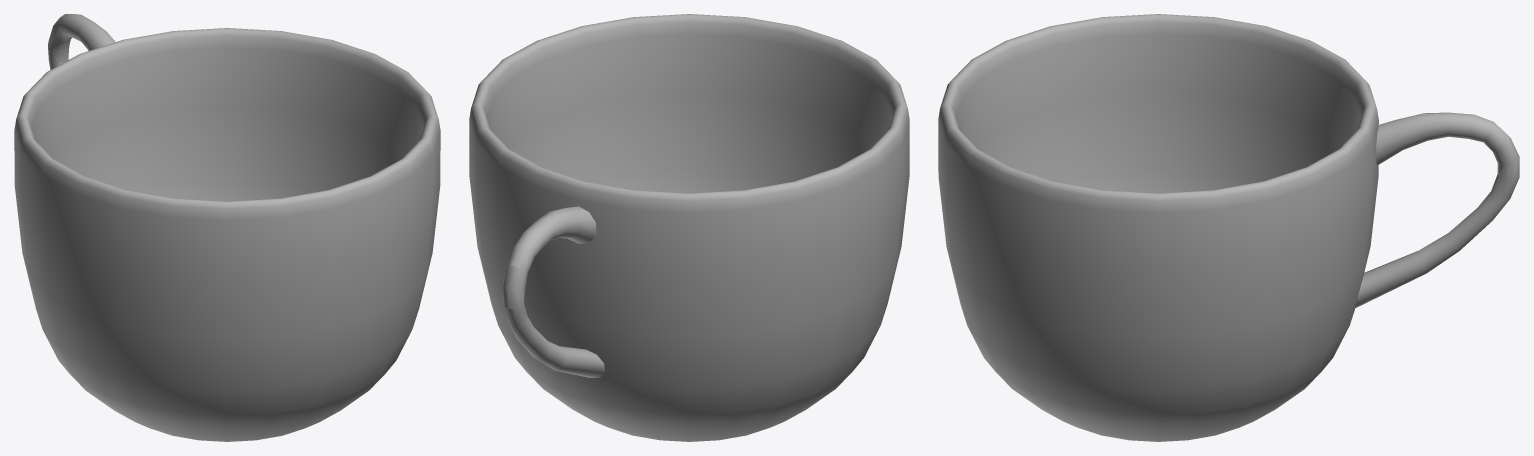
File: cup white.FBX
The picture shows the model from 3 angles, left to right: view 1: azimuth 30°, elevation 25°; view 2: azimuth 150°, elevation 25°; view 3: azimuth 270°, elevation 25°; orthographic projection. The views are drawn at different scales.
Visible parts, largest first — view 1: cup white; view 2: cup white; view 3: cup white.
Boxes of the visible parts, x1=… form: cup white: x1=14, y1=14, x2=440, y2=441; cup white: x1=469, y1=14, x2=909, y2=441; cup white: x1=938, y1=14, x2=1519, y2=441.
Bounding box in the file's own units: 3.58 × 4.72 × 2.6.
1 material, 1 textured.
